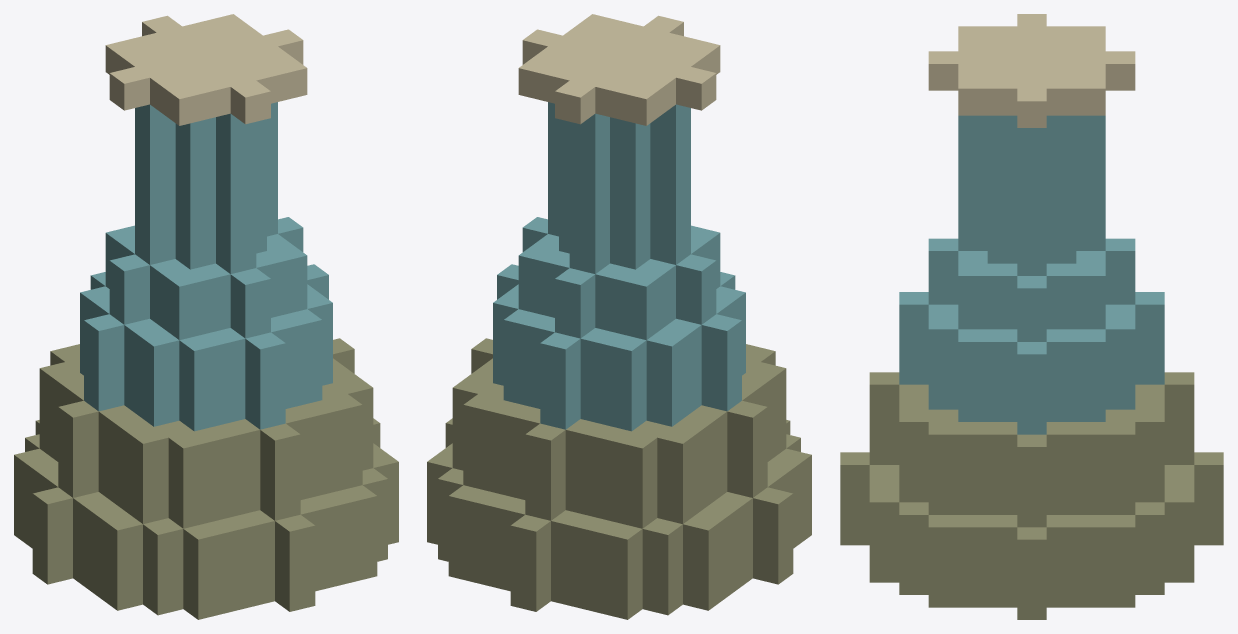
The model's file is chemistry-01.glb.
3 views of the same model, side by side, from view 1: azimuth 30°, elevation 25°; view 2: azimuth 150°, elevation 25°; view 3: azimuth 270°, elevation 25° (orthographic).
Visible parts, largest first — view 1: Erlenmeyer flask; view 2: Erlenmeyer flask; view 3: Erlenmeyer flask.
Part boxes in pixels (x1,y1,x2,y2): Erlenmeyer flask: [14, 14, 398, 619]; Erlenmeyer flask: [427, 14, 811, 619]; Erlenmeyer flask: [840, 14, 1223, 619].
Bounding box in the file's own units: 1.04 × 1.44 × 1.04.
